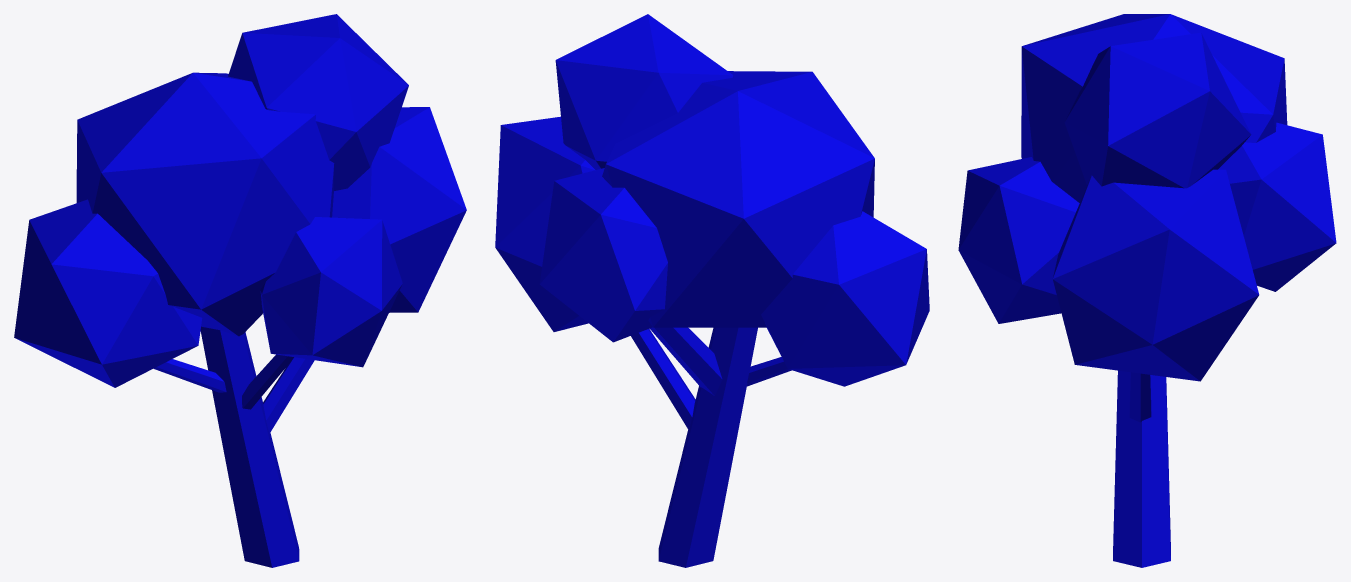
Rendered from Tree 2.fbx.
The picture shows the model from 3 angles, left to right: view 1: azimuth 30°, elevation 25°; view 2: azimuth 150°, elevation 25°; view 3: azimuth 270°, elevation 25°; orthographic projection. The views are drawn at different scales.
Parts seen in each view (by area): view 1: TypicalTrees:sphere_object1, TypicalTrees:sphere_object2, TypicalTrees:sphere_object5, TypicalTrees:sphere_object7, TypicalTrees:sphere_object6, TypicalTrees:pCylinder1, TypicalTrees:pCylinder2, TypicalTrees:pCylinder7, TypicalTrees:pCylinder5; view 2: TypicalTrees:sphere_object1, TypicalTrees:sphere_object2, TypicalTrees:sphere_object8, TypicalTrees:sphere_object5, TypicalTrees:pCylinder1, TypicalTrees:sphere_object6, TypicalTrees:pCylinder6, TypicalTrees:pCylinder2, TypicalTrees:pCylinder7; view 3: TypicalTrees:sphere_object6, TypicalTrees:sphere_object5, TypicalTrees:sphere_object1, TypicalTrees:sphere_object7, TypicalTrees:sphere_object8, TypicalTrees:pCylinder1, TypicalTrees:pCylinder2.
Part boxes in pixels (left/top/right/bottom): TypicalTrees:sphere_object1: left=76, top=72, right=334, bottom=336; TypicalTrees:sphere_object2: left=14, top=199, right=202, bottom=387; TypicalTrees:sphere_object5: left=228, top=14, right=408, bottom=190; TypicalTrees:sphere_object7: left=260, top=217, right=402, bottom=367; TypicalTrees:sphere_object6: left=332, top=107, right=466, bottom=312; TypicalTrees:pCylinder1: left=200, top=326, right=299, bottom=567; TypicalTrees:pCylinder2: left=263, top=357, right=314, bottom=433; TypicalTrees:pCylinder7: left=153, top=359, right=226, bottom=392; TypicalTrees:pCylinder5: left=242, top=354, right=293, bottom=409; TypicalTrees:sphere_object1: left=602, top=71, right=874, bottom=327; TypicalTrees:sphere_object2: left=761, top=211, right=929, bottom=386; TypicalTrees:sphere_object8: left=539, top=168, right=667, bottom=342; TypicalTrees:sphere_object5: left=555, top=14, right=733, bottom=169; TypicalTrees:pCylinder1: left=658, top=327, right=757, bottom=567; TypicalTrees:sphere_object6: left=495, top=116, right=595, bottom=331; TypicalTrees:pCylinder6: left=649, top=327, right=722, bottom=395; TypicalTrees:pCylinder2: left=631, top=329, right=695, bottom=430; TypicalTrees:pCylinder7: left=747, top=357, right=791, bottom=386; TypicalTrees:sphere_object6: left=1052, top=169, right=1259, bottom=381; TypicalTrees:sphere_object5: left=1064, top=32, right=1251, bottom=188; TypicalTrees:sphere_object1: left=1021, top=14, right=1287, bottom=202; TypicalTrees:sphere_object7: left=958, top=157, right=1079, bottom=323; TypicalTrees:sphere_object8: left=1218, top=122, right=1336, bottom=291; TypicalTrees:pCylinder1: left=1113, top=370, right=1170, bottom=567; TypicalTrees:pCylinder2: left=1129, top=372, right=1151, bottom=422.
Size of the model in its own units: 20.68 by 24.81 by 15.89.
